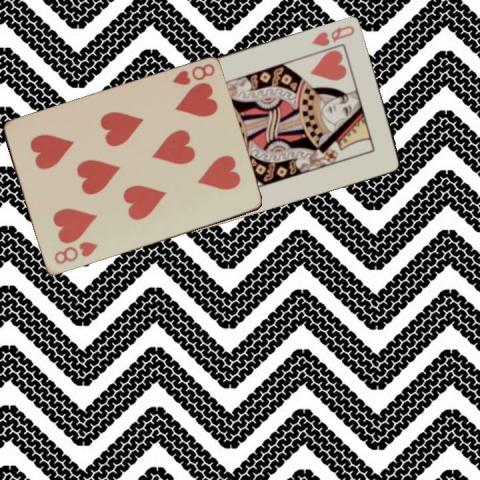8h: (51, 239, 99, 266), (169, 61, 216, 87)
Qh: (308, 21, 357, 48)
